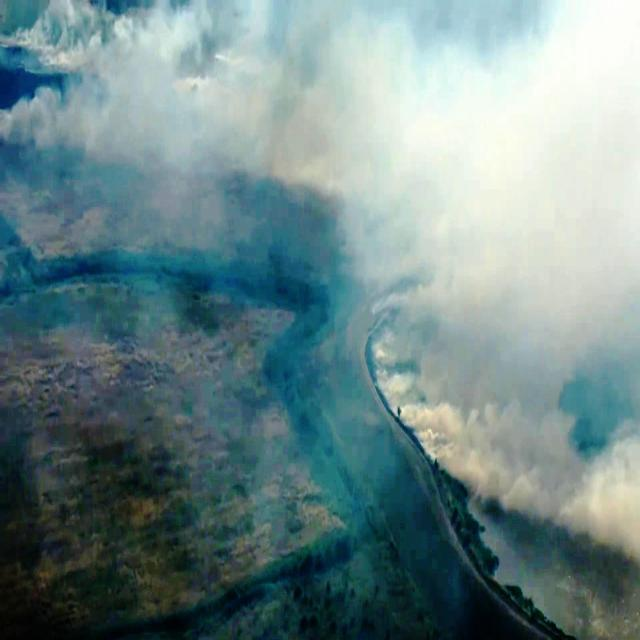Smoke: (491, 403, 584, 510)
